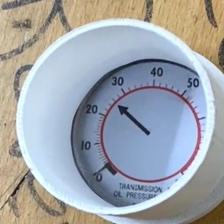gauge: (71, 59, 206, 210)
